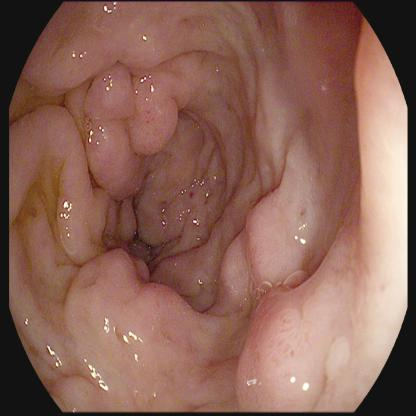Polyps: (85, 76, 179, 184)
